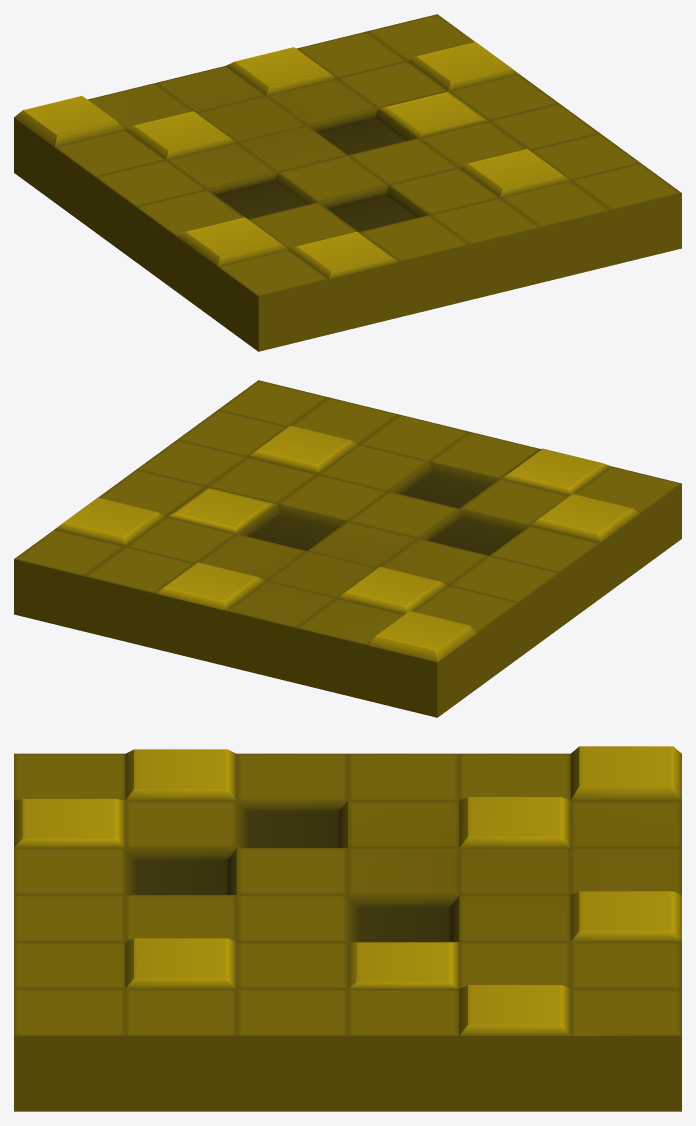
Rendered from Ground1.fbx.
The picture shows the model from 3 angles, top to bottom: view 1: azimuth 30°, elevation 25°; view 2: azimuth 150°, elevation 25°; view 3: azimuth 270°, elevation 25°; orthographic projection. The views are drawn at different scales.
Visible parts, largest first — view 1: Ground1; view 2: Ground1; view 3: Ground1.
Part boxes in pixels (x1=…): Ground1: x1=14, y1=14, x2=681, y2=351; Ground1: x1=14, y1=380, x2=681, y2=717; Ground1: x1=14, y1=746, x2=681, y2=1111.
Size of the model in its own units: 200 by 28.72 by 200.
